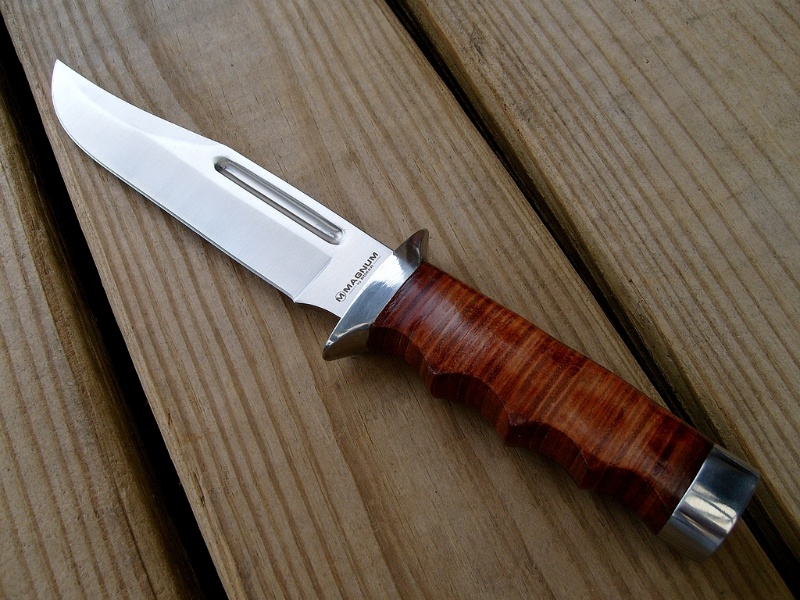knife: (48, 52, 774, 565)
